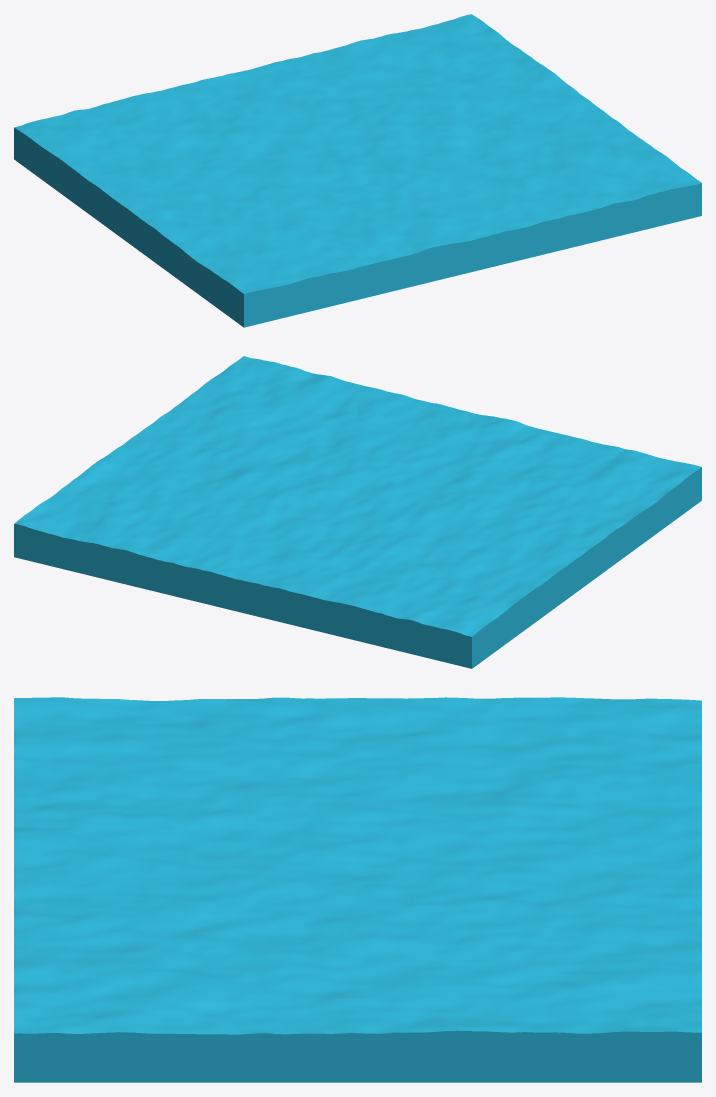
The model's file is staticWater.glb.
3 views of the same model, one above another, from view 1: azimuth 30°, elevation 25°; view 2: azimuth 150°, elevation 25°; view 3: azimuth 270°, elevation 25° (orthographic). The views are drawn at different scales.
Parts seen in each view (by area): view 1: Object_6; view 2: Object_6; view 3: Object_6.
Part boxes in pixels (x1=…): Object_6: x1=14, y1=14, x2=701, y2=327; Object_6: x1=14, y1=356, x2=701, y2=668; Object_6: x1=14, y1=697, x2=701, y2=1082.
Size of the model in its own units: 26.28 by 1.91 by 22.85.
